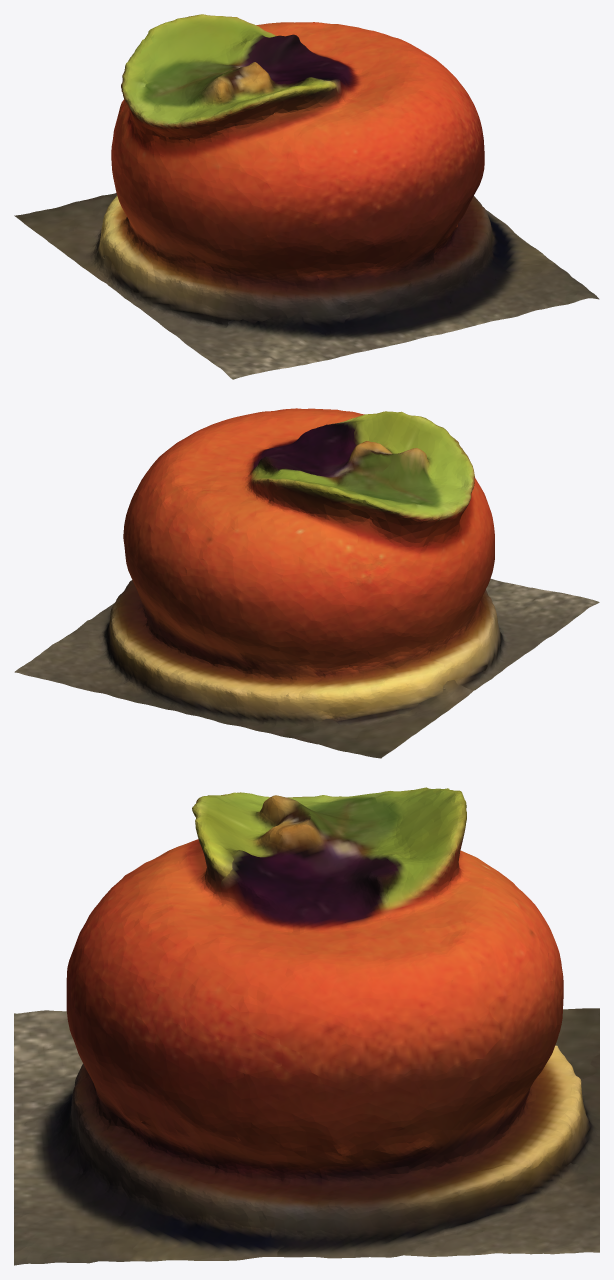
Rendered from orange-cake.glb.
The picture shows the model from 3 angles, top to bottom: view 1: azimuth 30°, elevation 25°; view 2: azimuth 150°, elevation 25°; view 3: azimuth 270°, elevation 25°; orthographic projection. The views are drawn at different scales.
Visible parts, largest first — view 1: mesh; view 2: mesh; view 3: mesh.
Part boxes in pixels (left/top/right/bottom): mesh: left=14, top=14, right=599, bottom=379; mesh: left=14, top=408, right=599, bottom=758; mesh: left=14, top=787, right=599, bottom=1265.
Size of the model in its own units: 0.0775 by 0.0444 by 0.0801.
1 material, 1 textured.
